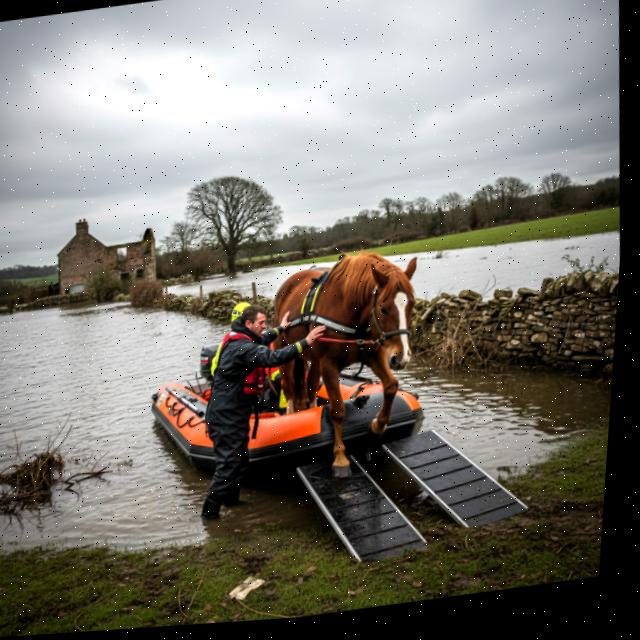civilian: (182, 283, 340, 535)
horse: (248, 239, 451, 483)
rescuer: (202, 278, 302, 427)
